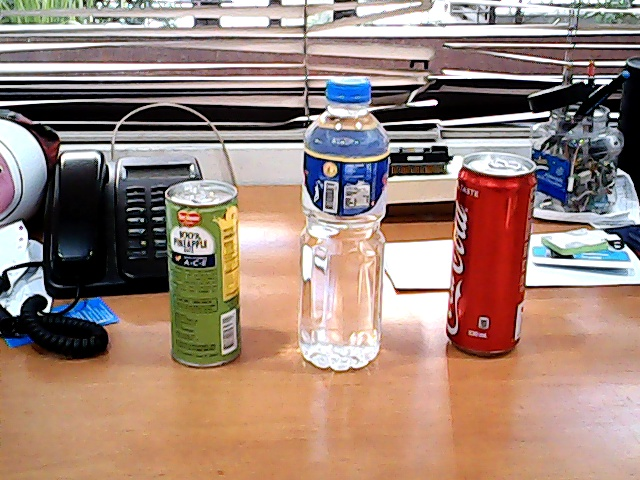Cola: (430, 140, 540, 369)
Pine Juice: (151, 169, 254, 377)
Summit Water: (286, 68, 403, 385)
